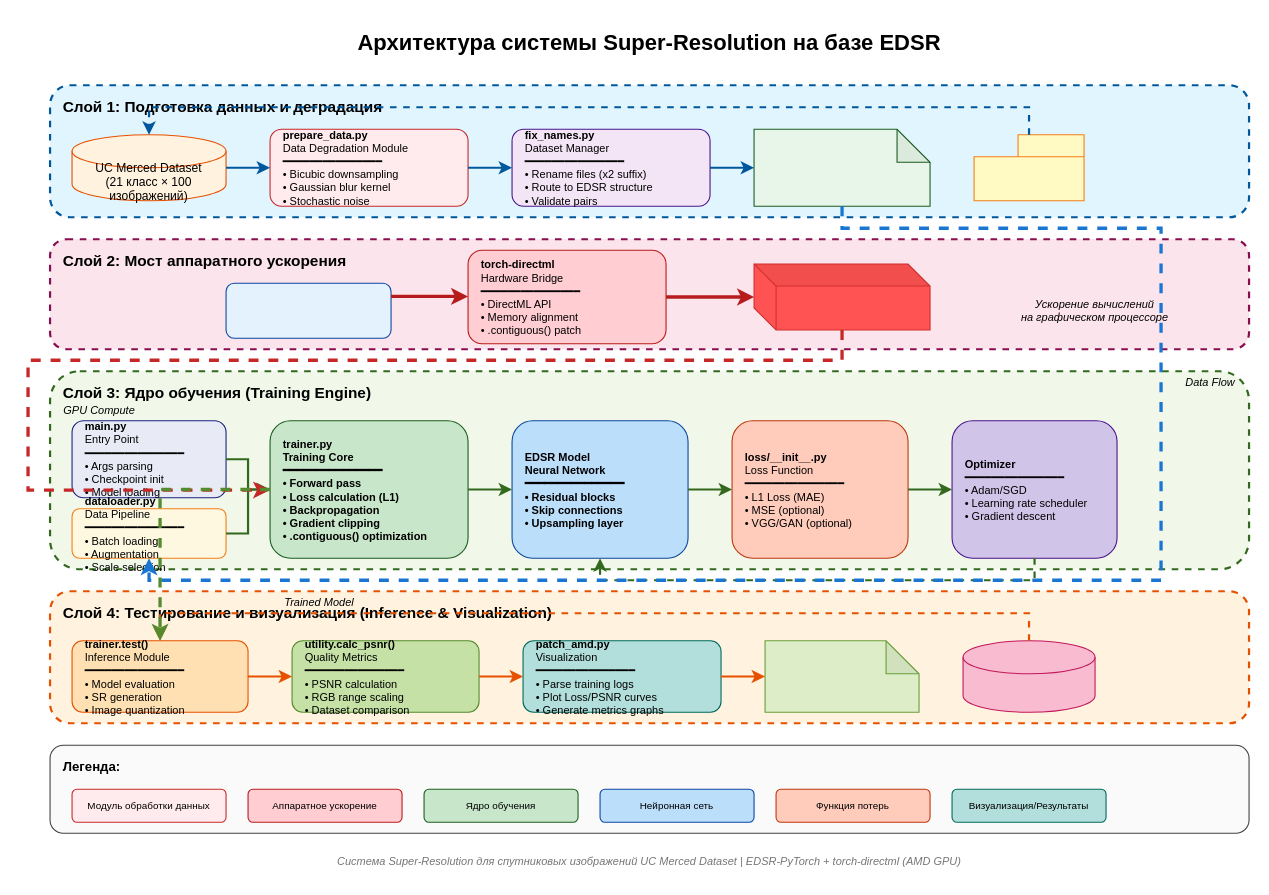
Some shapes in this 1269 by 895 pixel diagram are drawn without their labels. The shapes that lost their labels are listed below. From the top down, each one's centre as x and y in pixels, then its label:
point (841, 167): DIV2K Structure ━━━━━━━━━━━━━━━ HR: train_HR/ LR: train_LR_bicubic/X2/
point (1028, 167): images/ agricultural/ airplane/ ...
point (308, 310): PyTorch 1.2.0 Tensor Operations
point (841, 296): AMD Radeon GPU (Hardware Acceleration)
point (841, 676): Results ━━━━━━━━━━━━━━━ • SR images • PSNR metrics • Training graphs
point (1028, 676): Checkpoint ━━━━━━━━━━━━━━━ • Model weights • Training logs • Best epoch
